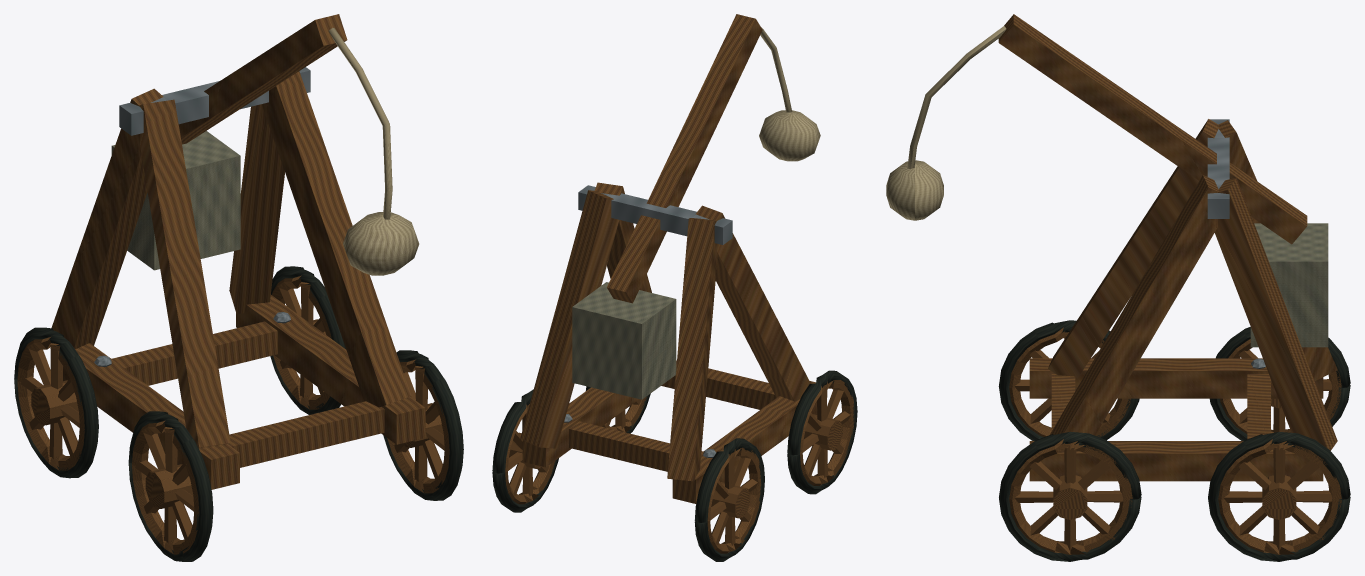
Rendered from special-siege.glb.
3 renders of one model, left to right at view 1: azimuth 30°, elevation 25°; view 2: azimuth 150°, elevation 25°; view 3: azimuth 270°, elevation 25°, orthographic. The views are drawn at different scales.
Parts seen in each view (by area): view 1: wood, dark, stone, linen, steel; view 2: wood, stone, dark, linen, steel; view 3: wood, dark, stone, linen, steel.
Part boxes in pixels (x1,y1,x2,y2): wood: (17, 14, 449, 554); dark: (14, 266, 463, 561); stone: (111, 131, 240, 270); linen: (328, 28, 419, 275); steel: (94, 67, 310, 366); wood: (505, 14, 854, 553); stone: (572, 282, 676, 399); dark: (492, 370, 857, 561); linen: (759, 27, 820, 161); steel: (564, 185, 732, 457); wood: (998, 14, 1341, 554); dark: (998, 320, 1350, 561); stone: (1250, 223, 1328, 347); linen: (886, 26, 1006, 220); steel: (1207, 119, 1265, 368).
Bounding box in the file's own units: 0.883 × 1.59 × 1.38.
Materials: 5 (5 with a texture image).
